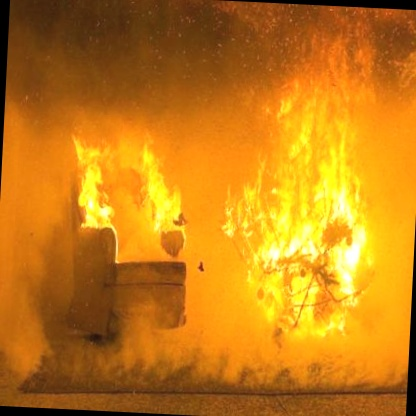fire: (50, 77, 394, 355)
